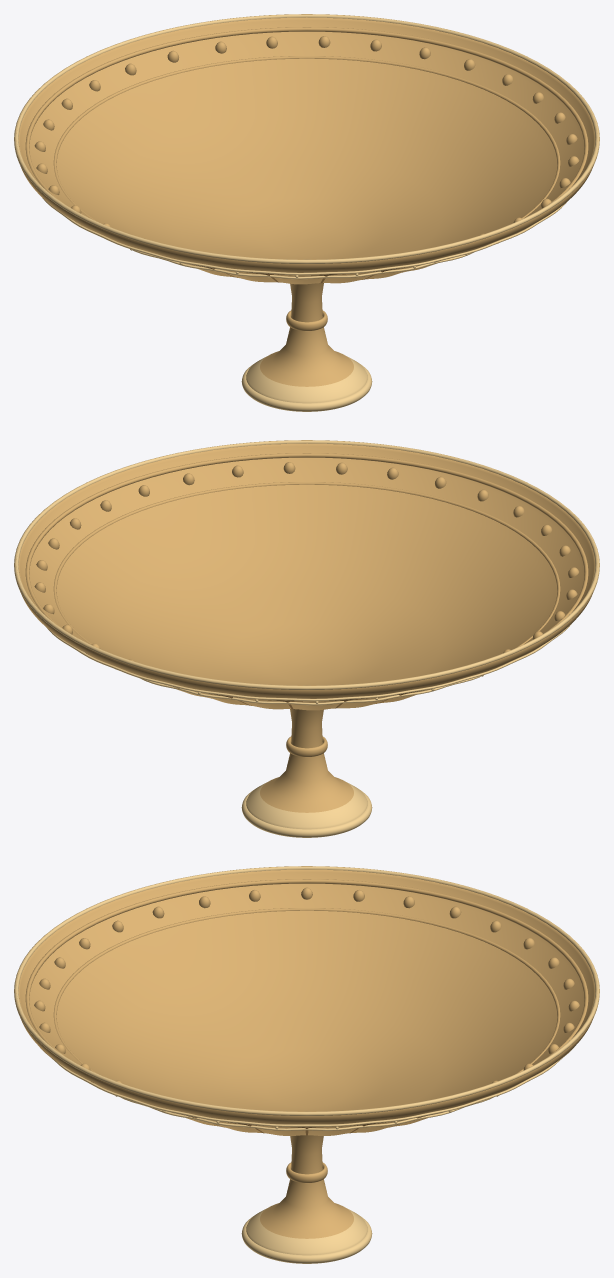
File: bowl-v8.glb
3 renders of one model, top to bottom at view 1: azimuth 30°, elevation 25°; view 2: azimuth 150°, elevation 25°; view 3: azimuth 270°, elevation 25°, orthographic.
Parts seen in each view (by area): view 1: MIDIS_Patera_V8_Arches_On_Channel_Feet; view 2: MIDIS_Patera_V8_Arches_On_Channel_Feet; view 3: MIDIS_Patera_V8_Arches_On_Channel_Feet.
Boxes of the visible parts, <box> form: MIDIS_Patera_V8_Arches_On_Channel_Feet: <box>14,14,599,411</box>; MIDIS_Patera_V8_Arches_On_Channel_Feet: <box>14,440,599,837</box>; MIDIS_Patera_V8_Arches_On_Channel_Feet: <box>14,866,599,1263</box>.
Bounding box in the file's own units: 1.77 × 0.831 × 1.77.
